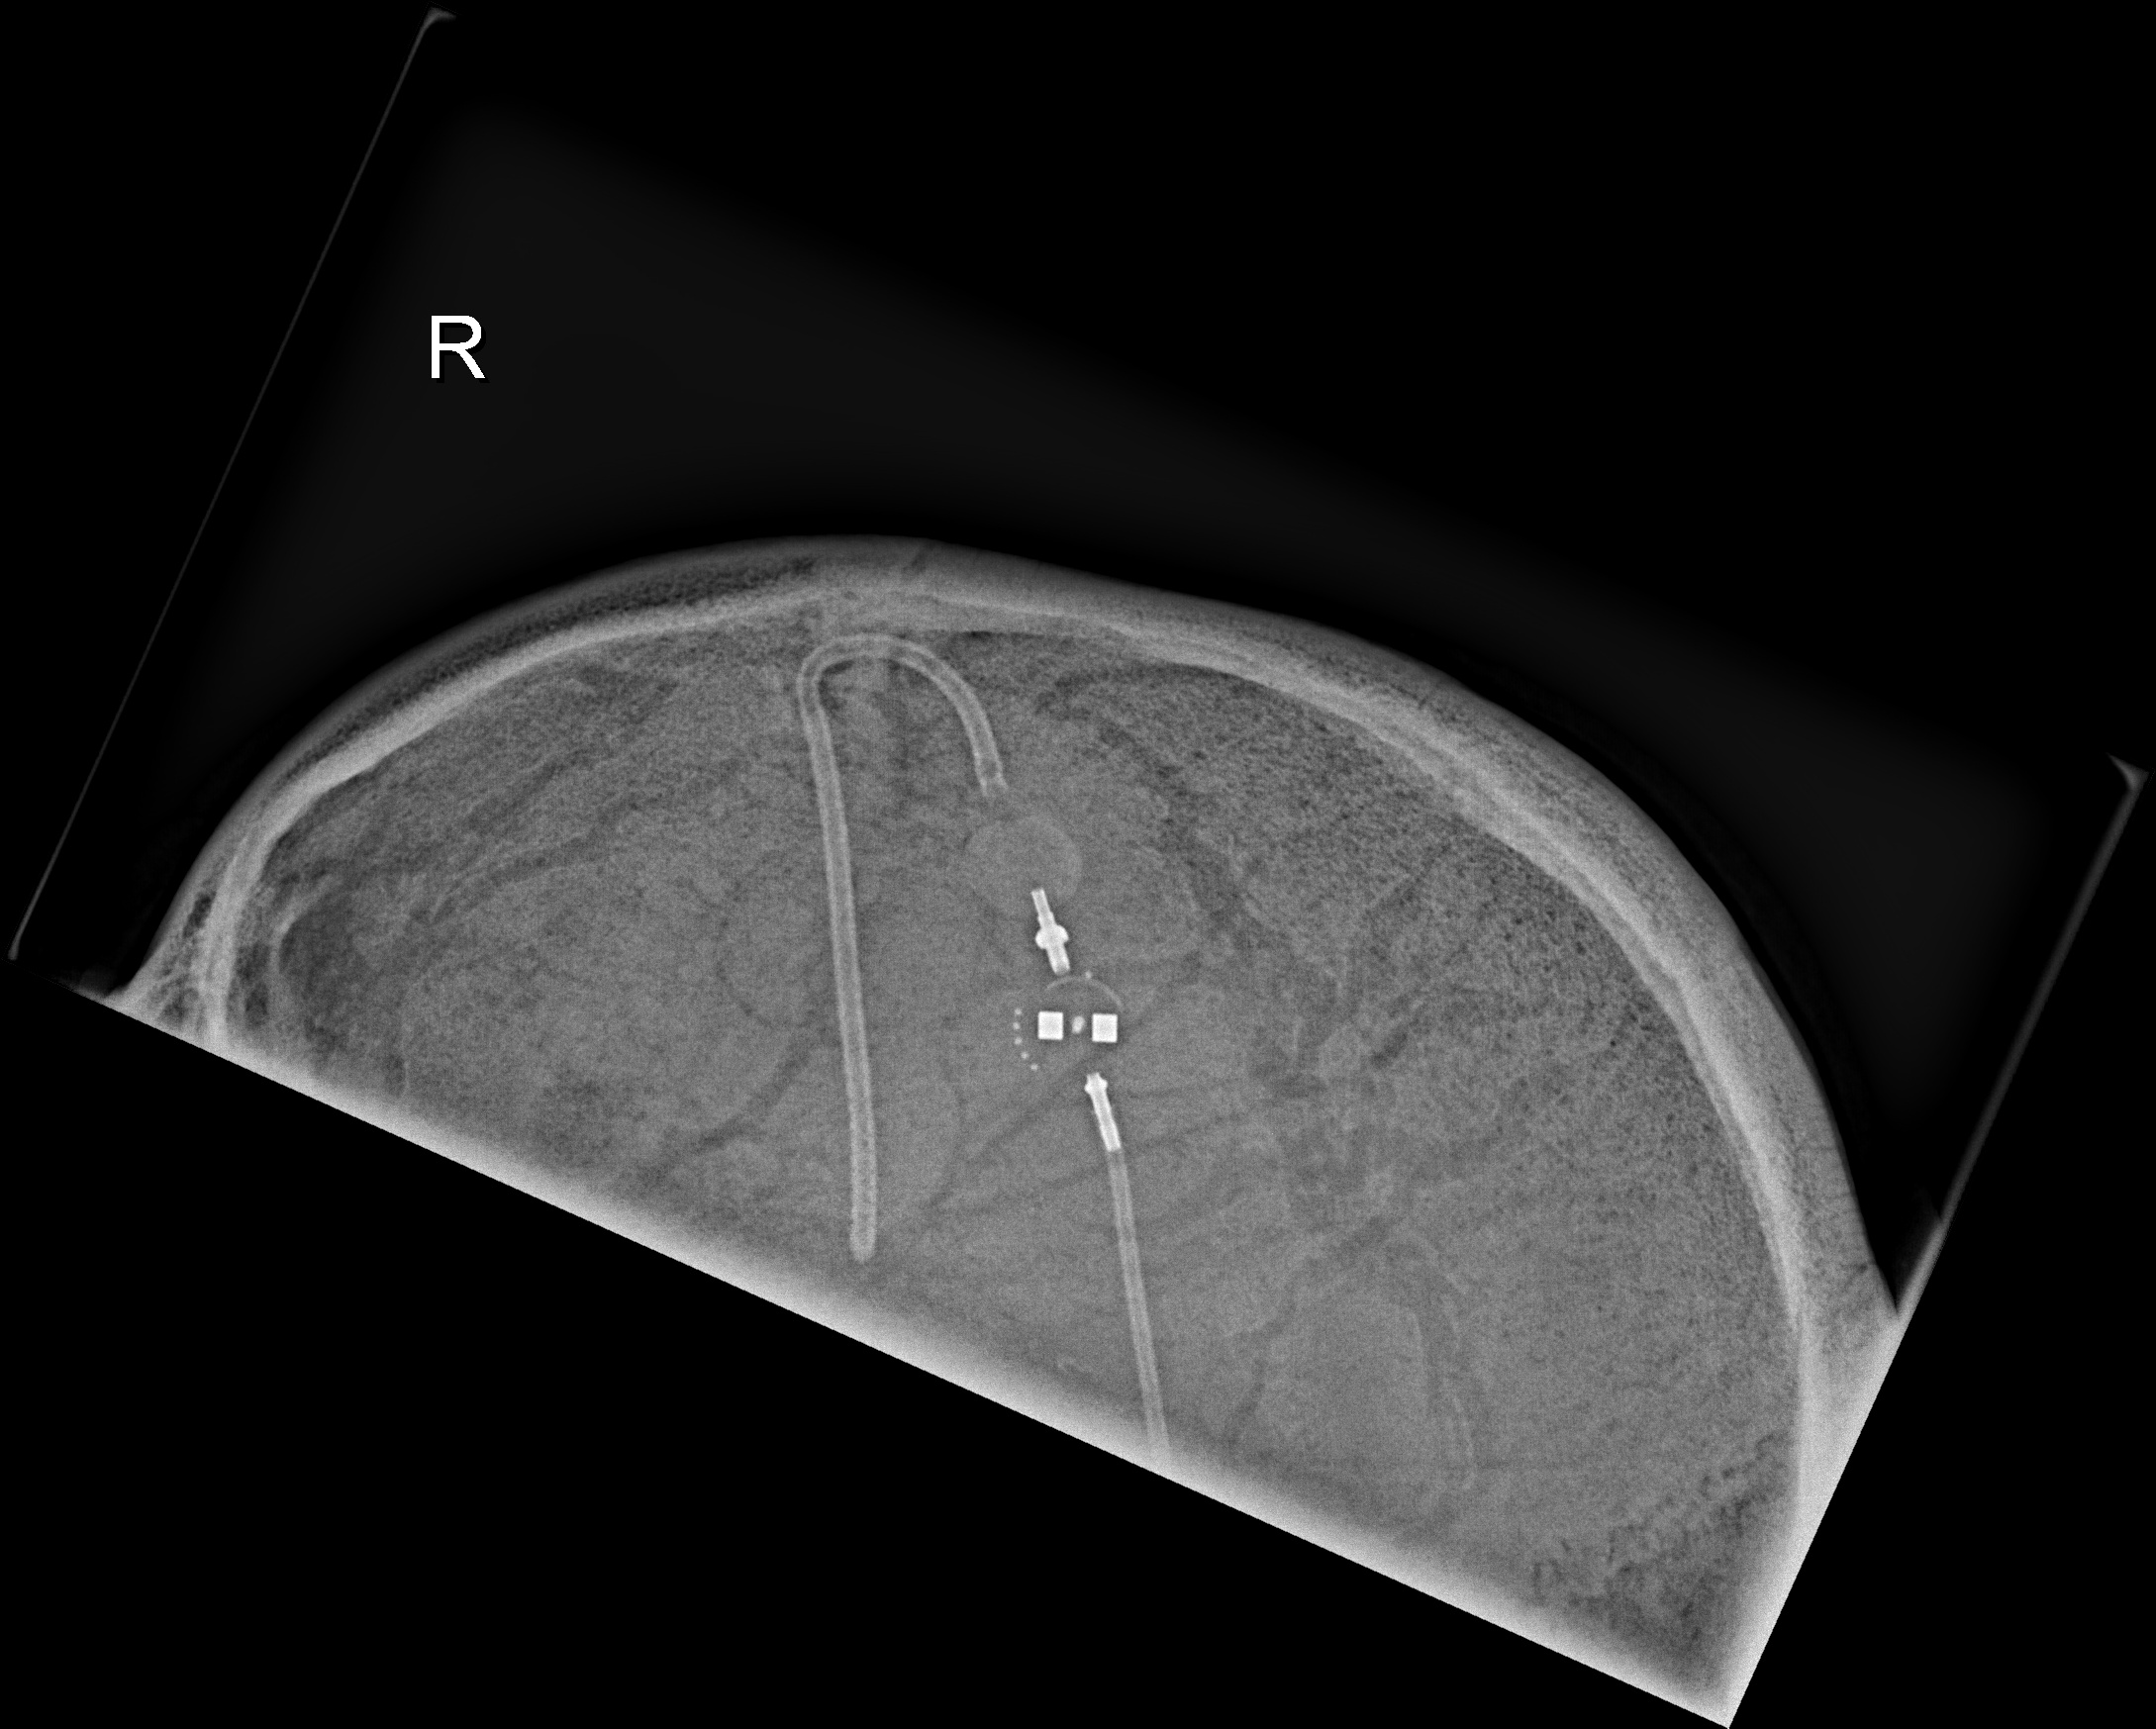Sophysa Polaris: (999, 962, 1150, 1111)
